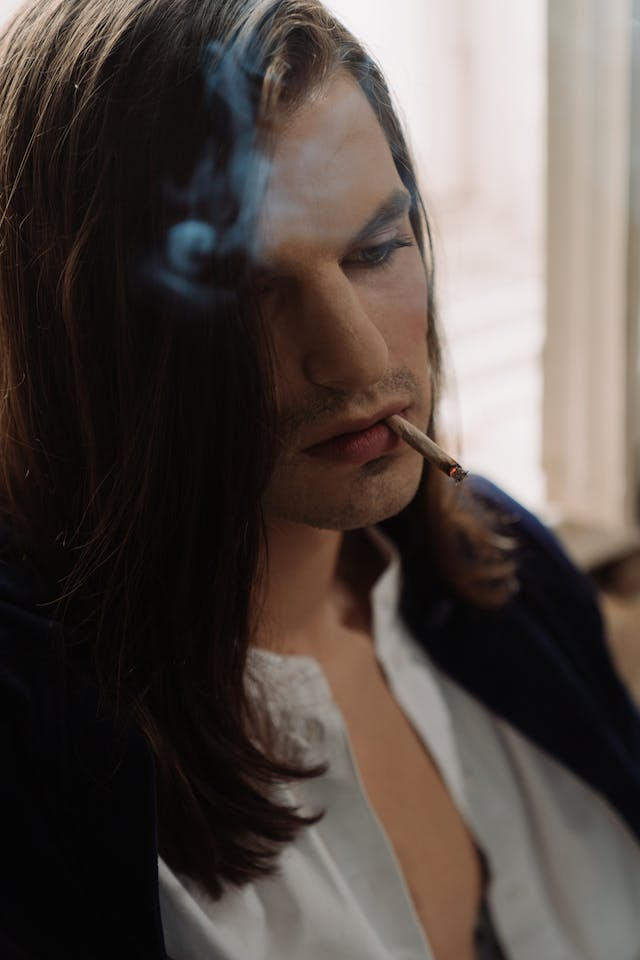Cigarette: (387, 412, 468, 486)
